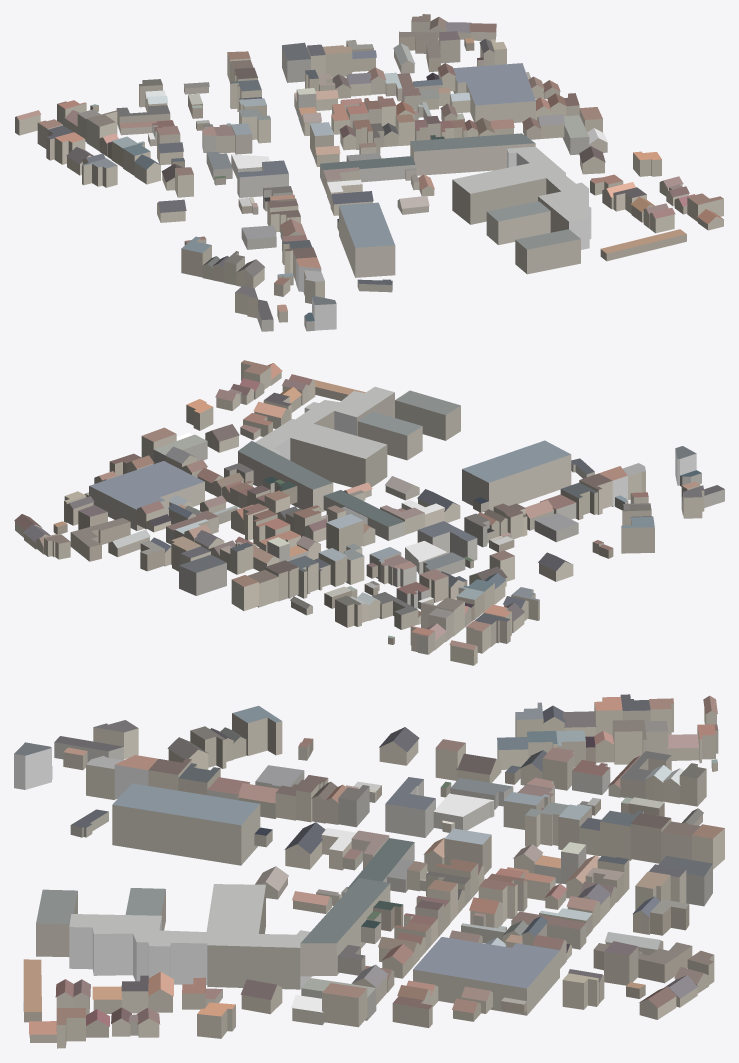
The picture shows the model from 3 angles, top to bottom: view 1: azimuth 30°, elevation 25°; view 2: azimuth 150°, elevation 25°; view 3: azimuth 270°, elevation 25°; orthographic projection. The views are drawn at different scales.
Visible parts, largest first — view 1: tuile; view 2: tuile; view 3: tuile.
Part boxes in pixels (x1,y1,x2,y2): tuile: (15, 14, 723, 331); tuile: (14, 360, 724, 665); tuile: (14, 694, 724, 1048).
Bounding box in the file's own units: 264 × 26.76 × 258.
